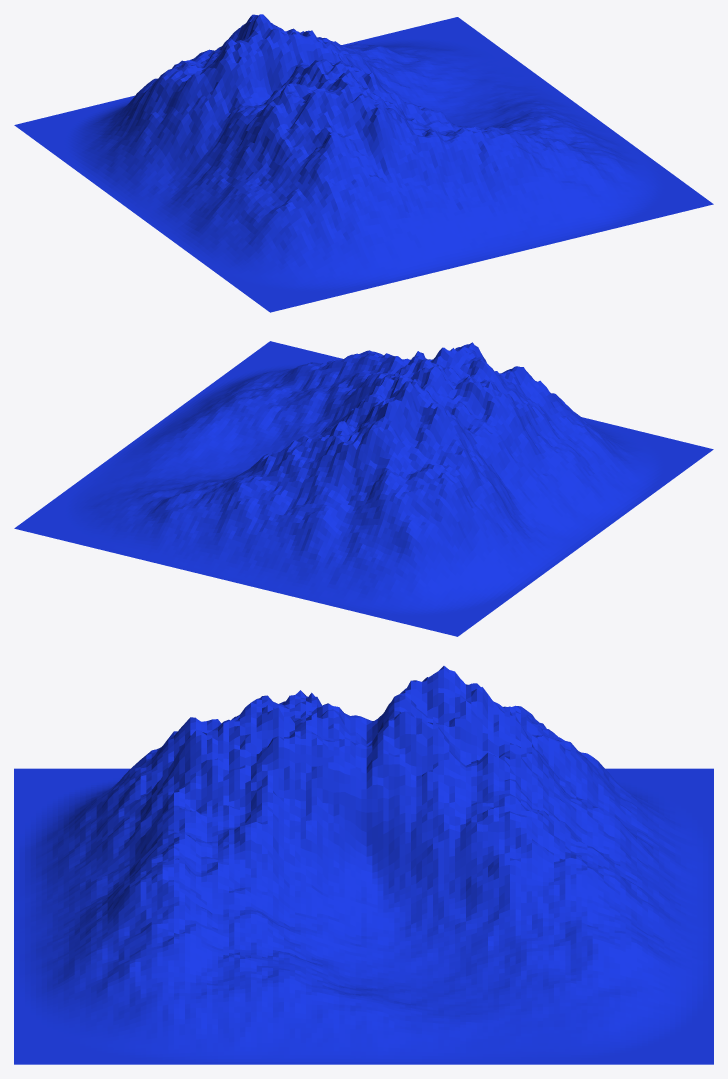
File: shit.gltf
3 renders of one model, top to bottom at view 1: azimuth 30°, elevation 25°; view 2: azimuth 150°, elevation 25°; view 3: azimuth 270°, elevation 25°, orthographic. The views are drawn at different scales.
Parts seen in each view (by area): view 1: Landscape; view 2: Landscape; view 3: Landscape.
Part boxes in pixels (x1,y1,x2,y2): Landscape: (14, 14, 713, 312); Landscape: (14, 341, 713, 636); Landscape: (14, 666, 713, 1064).
Bounding box in the file's own units: 2 × 0.6338 × 2.
